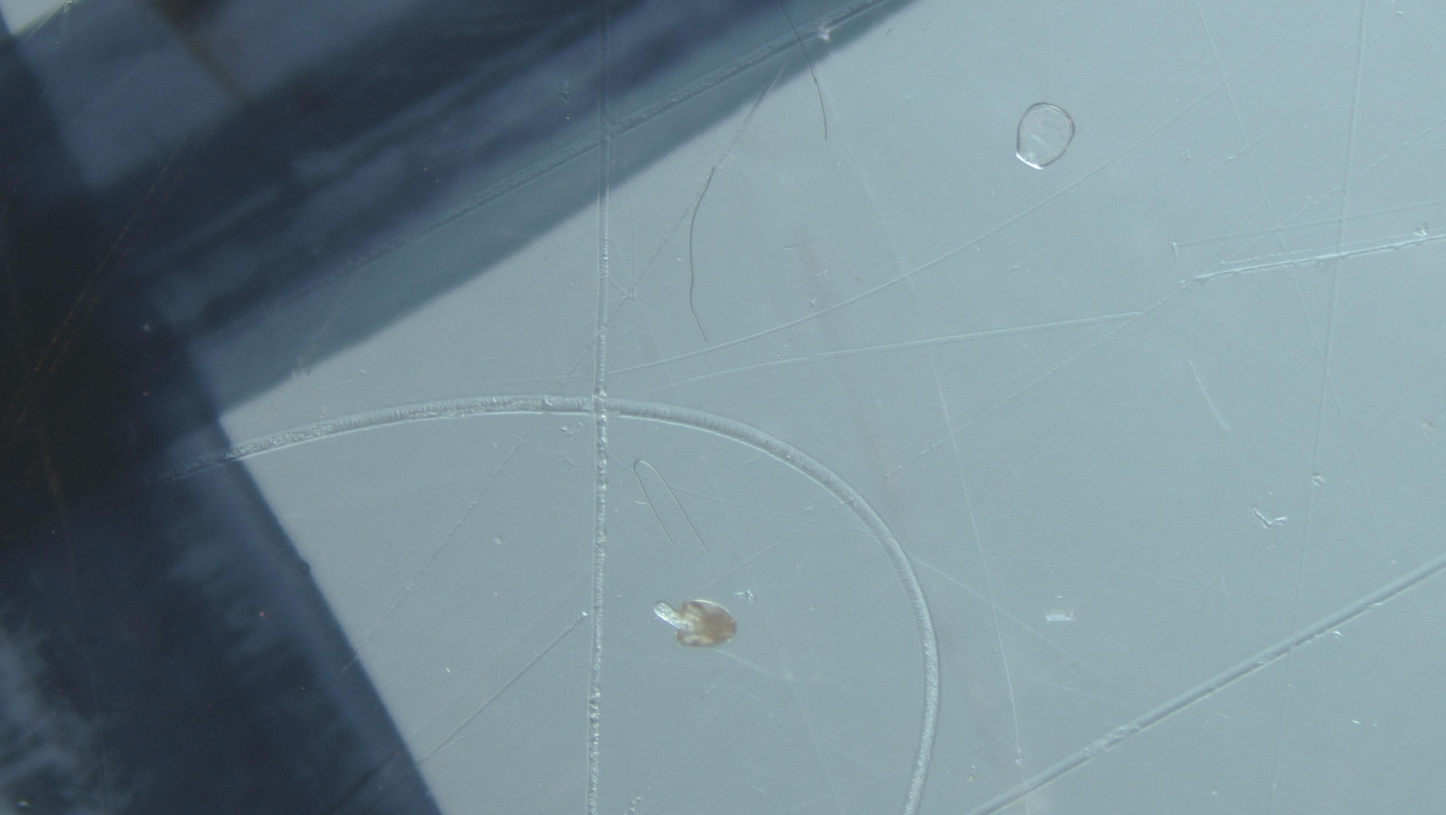dead: (1017, 103, 1075, 169)
live: (653, 600, 736, 648)
